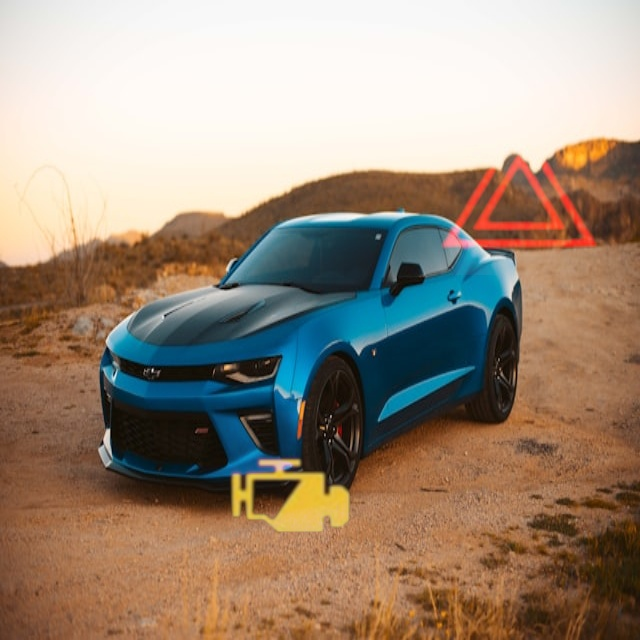symbol: (429, 91, 613, 275), (204, 411, 376, 583)
